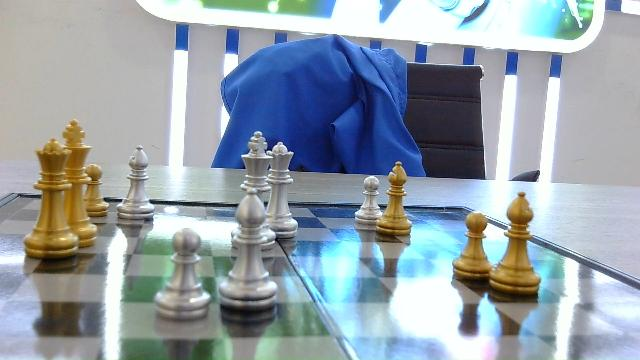black_bishop: (496, 191, 542, 300), (381, 159, 413, 238)
black_king: (63, 116, 90, 161)
black_pawn: (452, 209, 493, 281), (86, 163, 108, 218)
black_queen: (32, 136, 68, 257)
white_bishop: (220, 187, 277, 309), (117, 142, 156, 222)
white_king: (240, 129, 271, 190)
white_pawn: (155, 229, 212, 319), (354, 174, 377, 226)
white_queen: (271, 139, 300, 238)
